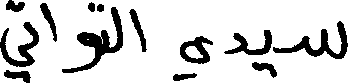ا: (130, 7, 144, 53), (39, 0, 53, 41)
ت: (5, 0, 36, 36), (95, 2, 107, 65)
د: (225, 30, 246, 54)
س: (302, 19, 346, 60)
ل: (109, 5, 121, 53)
و: (62, 0, 97, 73)
ي: (173, 33, 212, 80), (0, 27, 25, 81), (251, 27, 275, 78)
